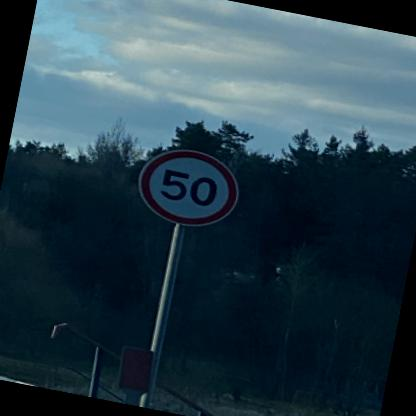speedlimit: (129, 140, 243, 234)
